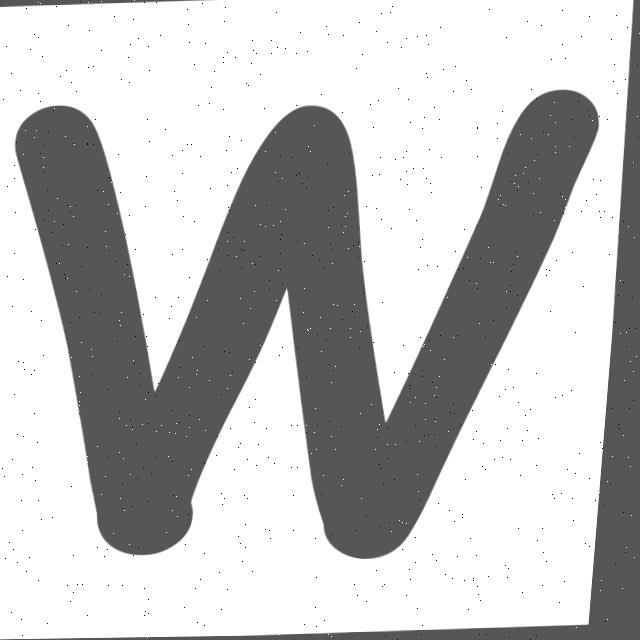W: (17, 91, 601, 559)
